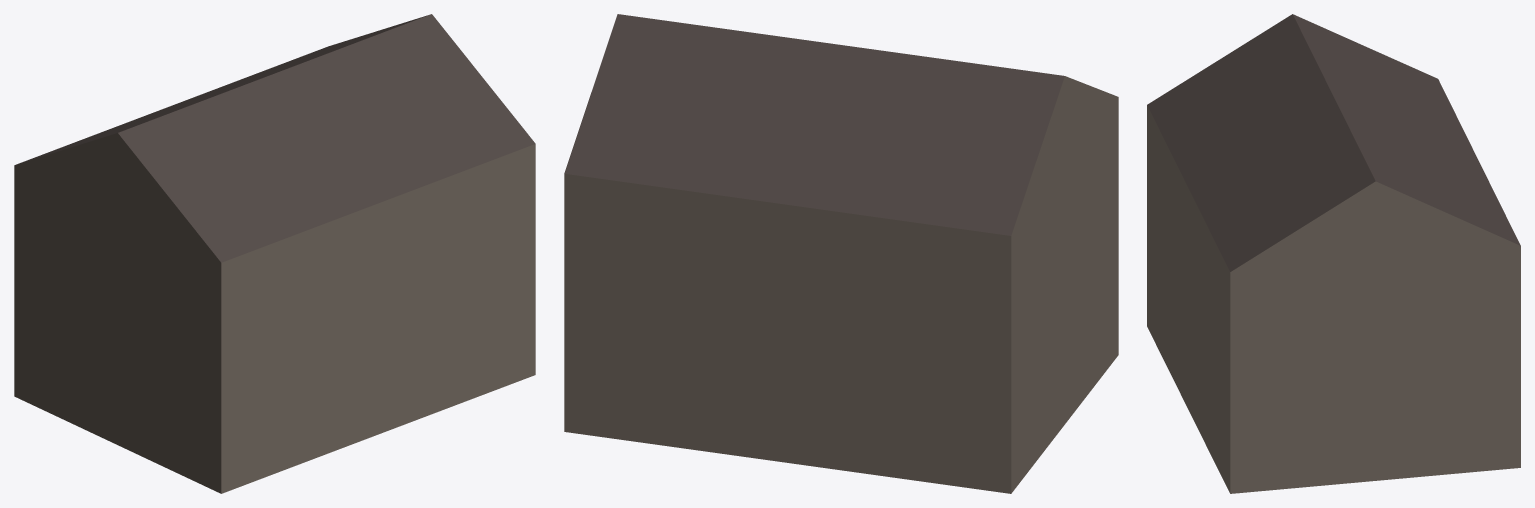
3 views of the same model, side by side, from view 1: azimuth 30°, elevation 25°; view 2: azimuth 150°, elevation 25°; view 3: azimuth 270°, elevation 25° (orthographic). The views are drawn at different scales.
Parts seen in each view (by area): view 1: HP-w858807428; view 2: HP-w858807428; view 3: HP-w858807428.
Part boxes in pixels (<box>): HP-w858807428: <box>14,14,535,493</box>; HP-w858807428: <box>564,14,1118,493</box>; HP-w858807428: <box>1147,14,1520,493</box>.
Size of the model in its own units: 11.22 by 8.11 by 9.17.
